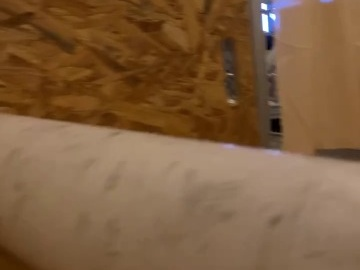curtain: (234, 0, 360, 163)
